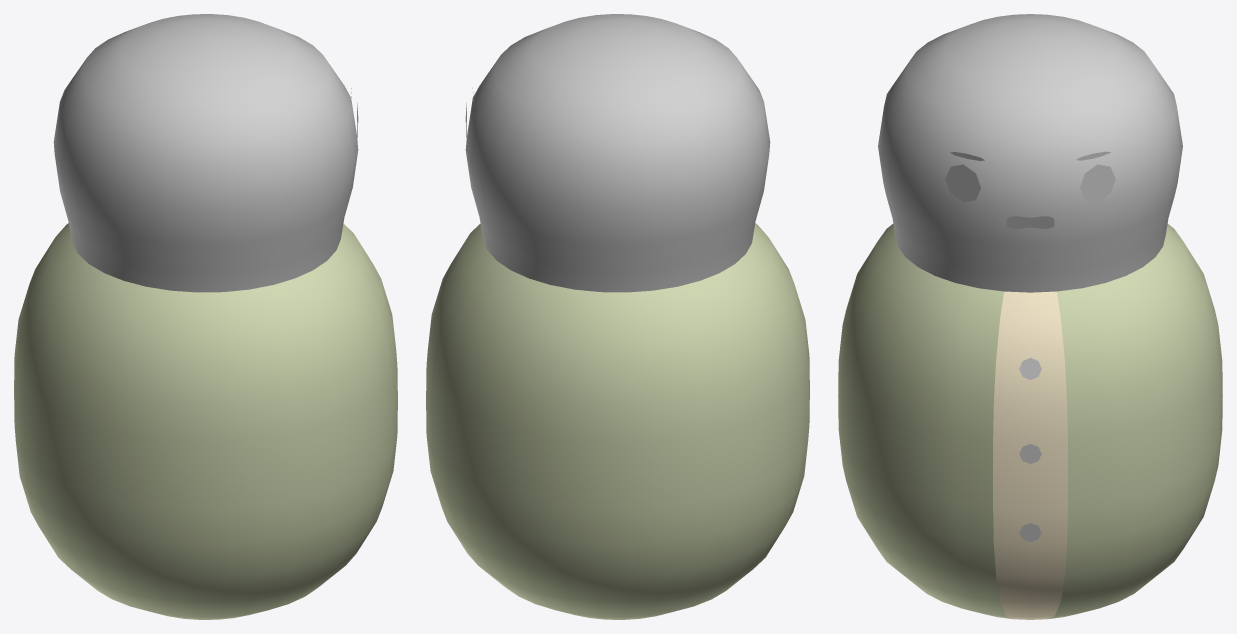
The model's file is player.fbx.
The picture shows the model from 3 angles, left to right: view 1: azimuth 30°, elevation 25°; view 2: azimuth 150°, elevation 25°; view 3: azimuth 270°, elevation 25°; orthographic projection.
Visible parts, largest first — view 1: body, head; view 2: body, head; view 3: body, head, eyesWhiteLeft.
Part boxes in pixels (<box>): body: <box>14,223,397,619</box>; head: <box>53,14,358,292</box>; body: <box>426,223,809,619</box>; head: <box>465,14,770,292</box>; body: <box>838,224,1222,619</box>; head: <box>878,14,1182,292</box>; eyesWhiteLeft: <box>945,164,1115,202</box>.
Bounding box in the file's own units: 171 × 277 × 171.
